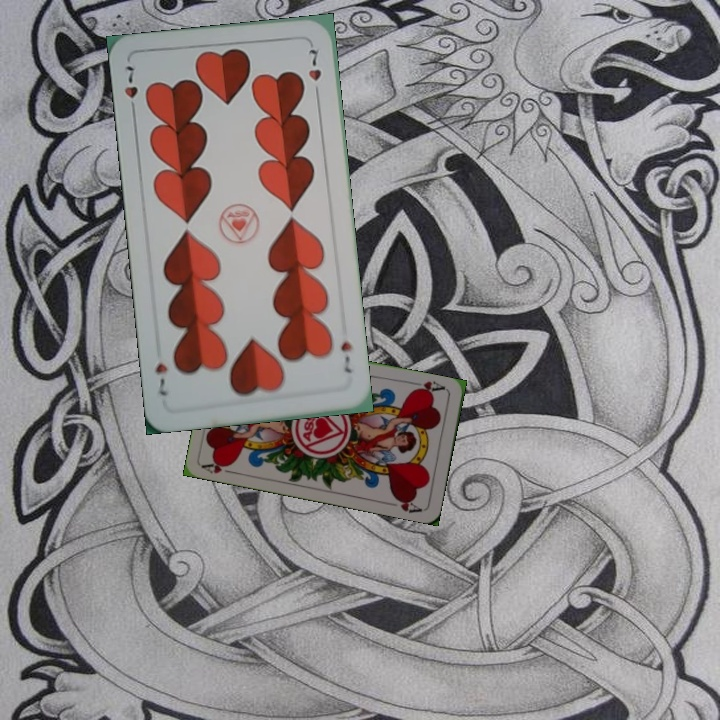H7: (120, 62, 141, 118), (336, 337, 355, 376)
HA: (199, 456, 240, 476), (408, 377, 448, 397)
